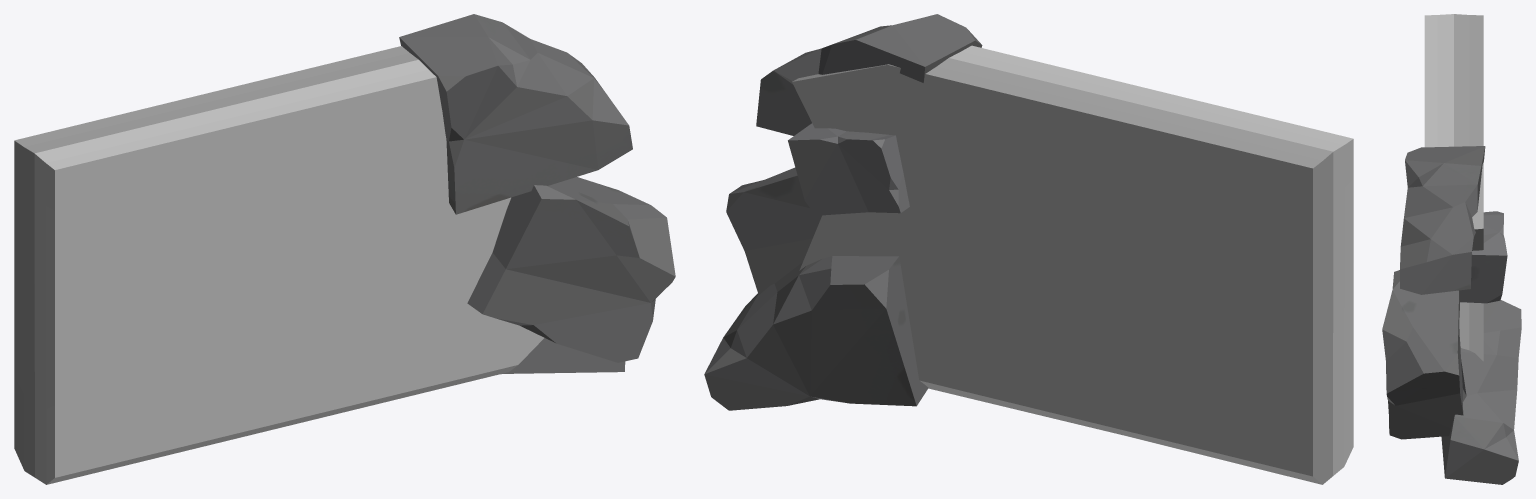
Rendered from SM_Bld_Bridge_L_Broken_End_01.fbx.
3 renders of one model, left to right at view 1: azimuth 30°, elevation 25°; view 2: azimuth 150°, elevation 25°; view 3: azimuth 270°, elevation 25°, orthographic. The views are drawn at different scales.
Visible parts, largest first — view 1: SM_Bld_Bridge_L_Broken_End_01; view 2: SM_Bld_Bridge_L_Broken_End_01; view 3: SM_Bld_Bridge_L_Broken_End_01.
Boxes of the visible parts, bbox=[...] form: SM_Bld_Bridge_L_Broken_End_01: bbox=[14, 14, 675, 484]; SM_Bld_Bridge_L_Broken_End_01: bbox=[704, 14, 1353, 484]; SM_Bld_Bridge_L_Broken_End_01: bbox=[1382, 14, 1521, 484].
Size of the model in its own units: 391 by 233 by 107.
